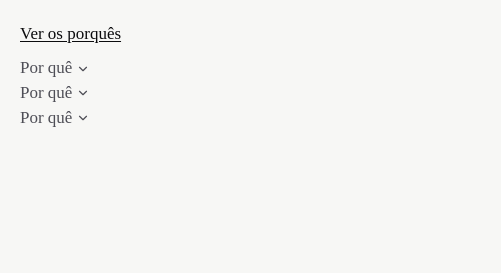
Test: PorQue › abrir mostra o que faz, com base em (o vídeo, com o link no segundo) e para; fechar de novo esconde
Click the button with aria-label "Por quê: Abertura" at {"x": 55, "y": 68}, box x1=12 y1=46 x2=98 y2=90
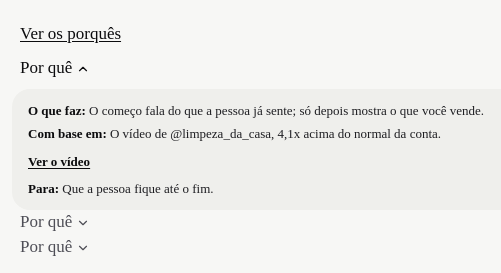
expect the button with aria-label "Por quê: Abertura" is expanded: met
expect the text "O começo fala do que a pessoa já sente; só depois mostra o que você vende." is shown: met, box x1=89 y1=103 x2=484 y2=118
expect the text "O vídeo de @limpeza_da_casa, 4,1x acima do normal da conta." is shown: met, box x1=110 y1=126 x2=441 y2=141
Click the button with aria-label "Por quê: Abertura" at {"x": 55, "y": 68}, box x1=12 y1=46 x2=98 y2=90
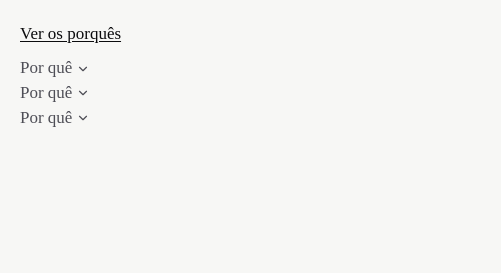
expect the button with aria-label "Por quê: Abertura" is collapsed: met, box x1=12 y1=46 x2=98 y2=90
expect the text "O que faz:" is gone: met
